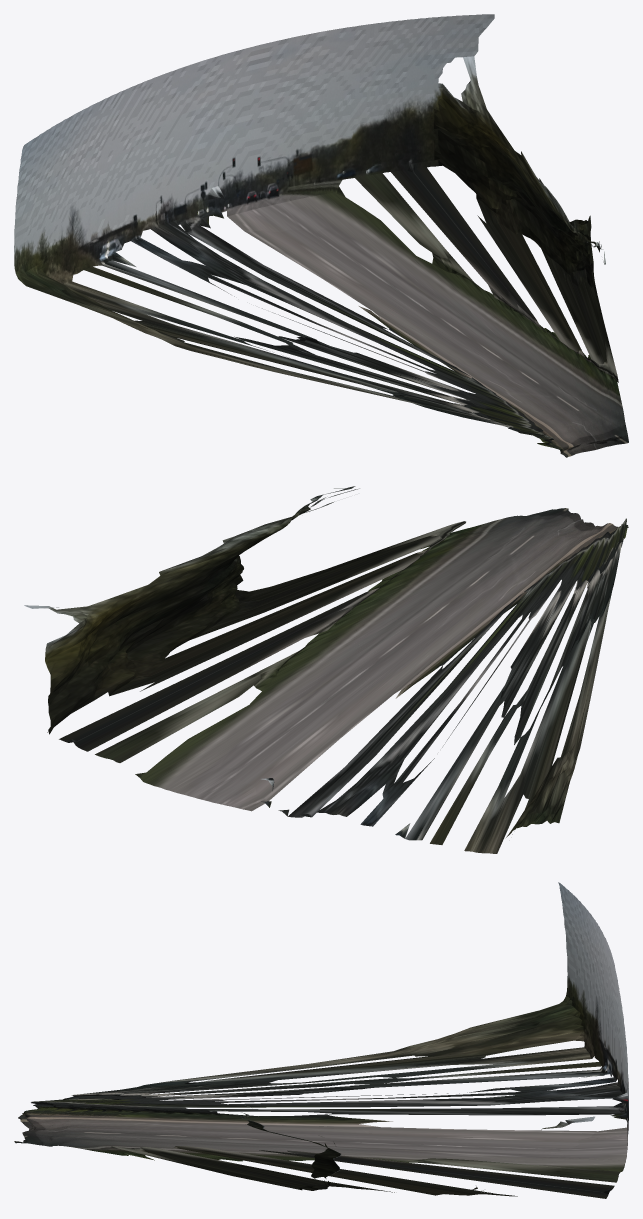
The picture shows the model from 3 angles, top to bottom: view 1: azimuth 30°, elevation 25°; view 2: azimuth 150°, elevation 25°; view 3: azimuth 270°, elevation 25°; orthographic projection. The views are drawn at different scales.
Parts seen in each view (by area): view 1: defaultobject; view 2: defaultobject; view 3: defaultobject.
Part boxes in pixels (x1,y1,x2,y2): defaultobject: (14, 14, 628, 457); defaultobject: (24, 486, 628, 853); defaultobject: (14, 882, 628, 1198).
Bounding box in the file's own units: 36.61 × 12.67 × 44.82.
1 material, 1 textured.
